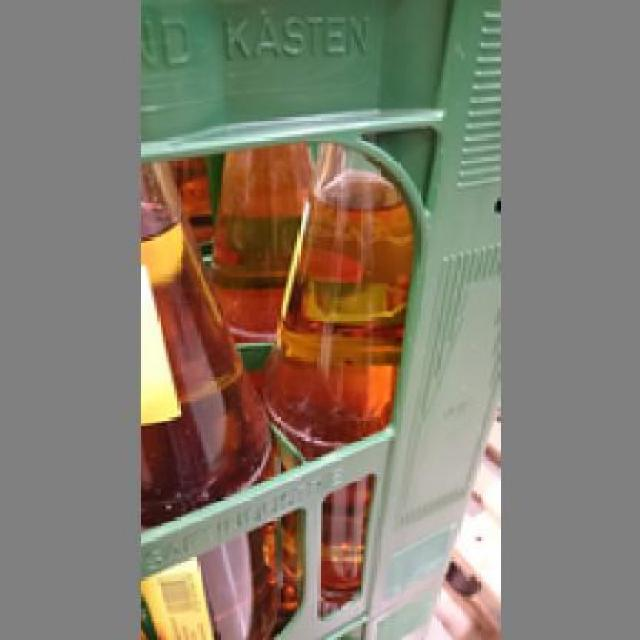Juice: (137, 160, 286, 634), (268, 146, 414, 614)
